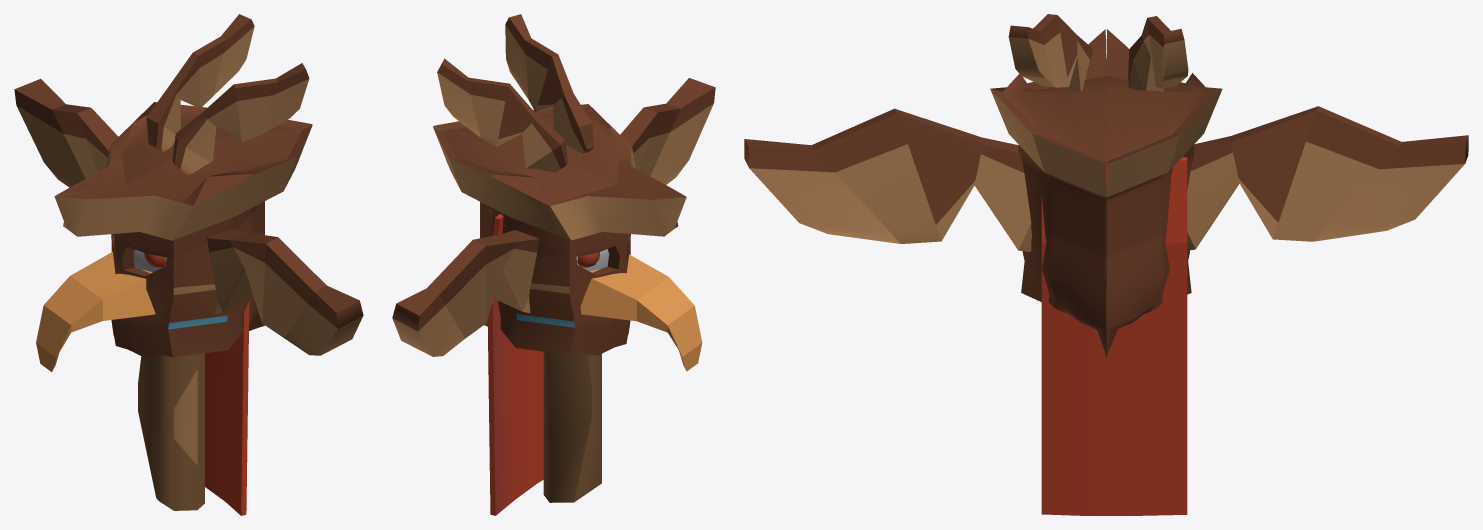
Rendered from Model_Totem.fbx.
The picture shows the model from 3 angles, left to right: view 1: azimuth 30°, elevation 25°; view 2: azimuth 150°, elevation 25°; view 3: azimuth 270°, elevation 25°; orthographic projection. The views are drawn at different scales.
Visible parts, largest first — view 1: Totem; view 2: Totem; view 3: Totem.
Part boxes in pixels (left/top/right/bottom): Totem: left=14, top=14, right=363, bottom=515; Totem: left=392, top=14, right=715, bottom=515; Totem: left=744, top=14, right=1468, bottom=515.
Bounding box in the file's own units: 2.44 × 3.91 × 4.98.
Materials: 1 (1 with a texture image).
